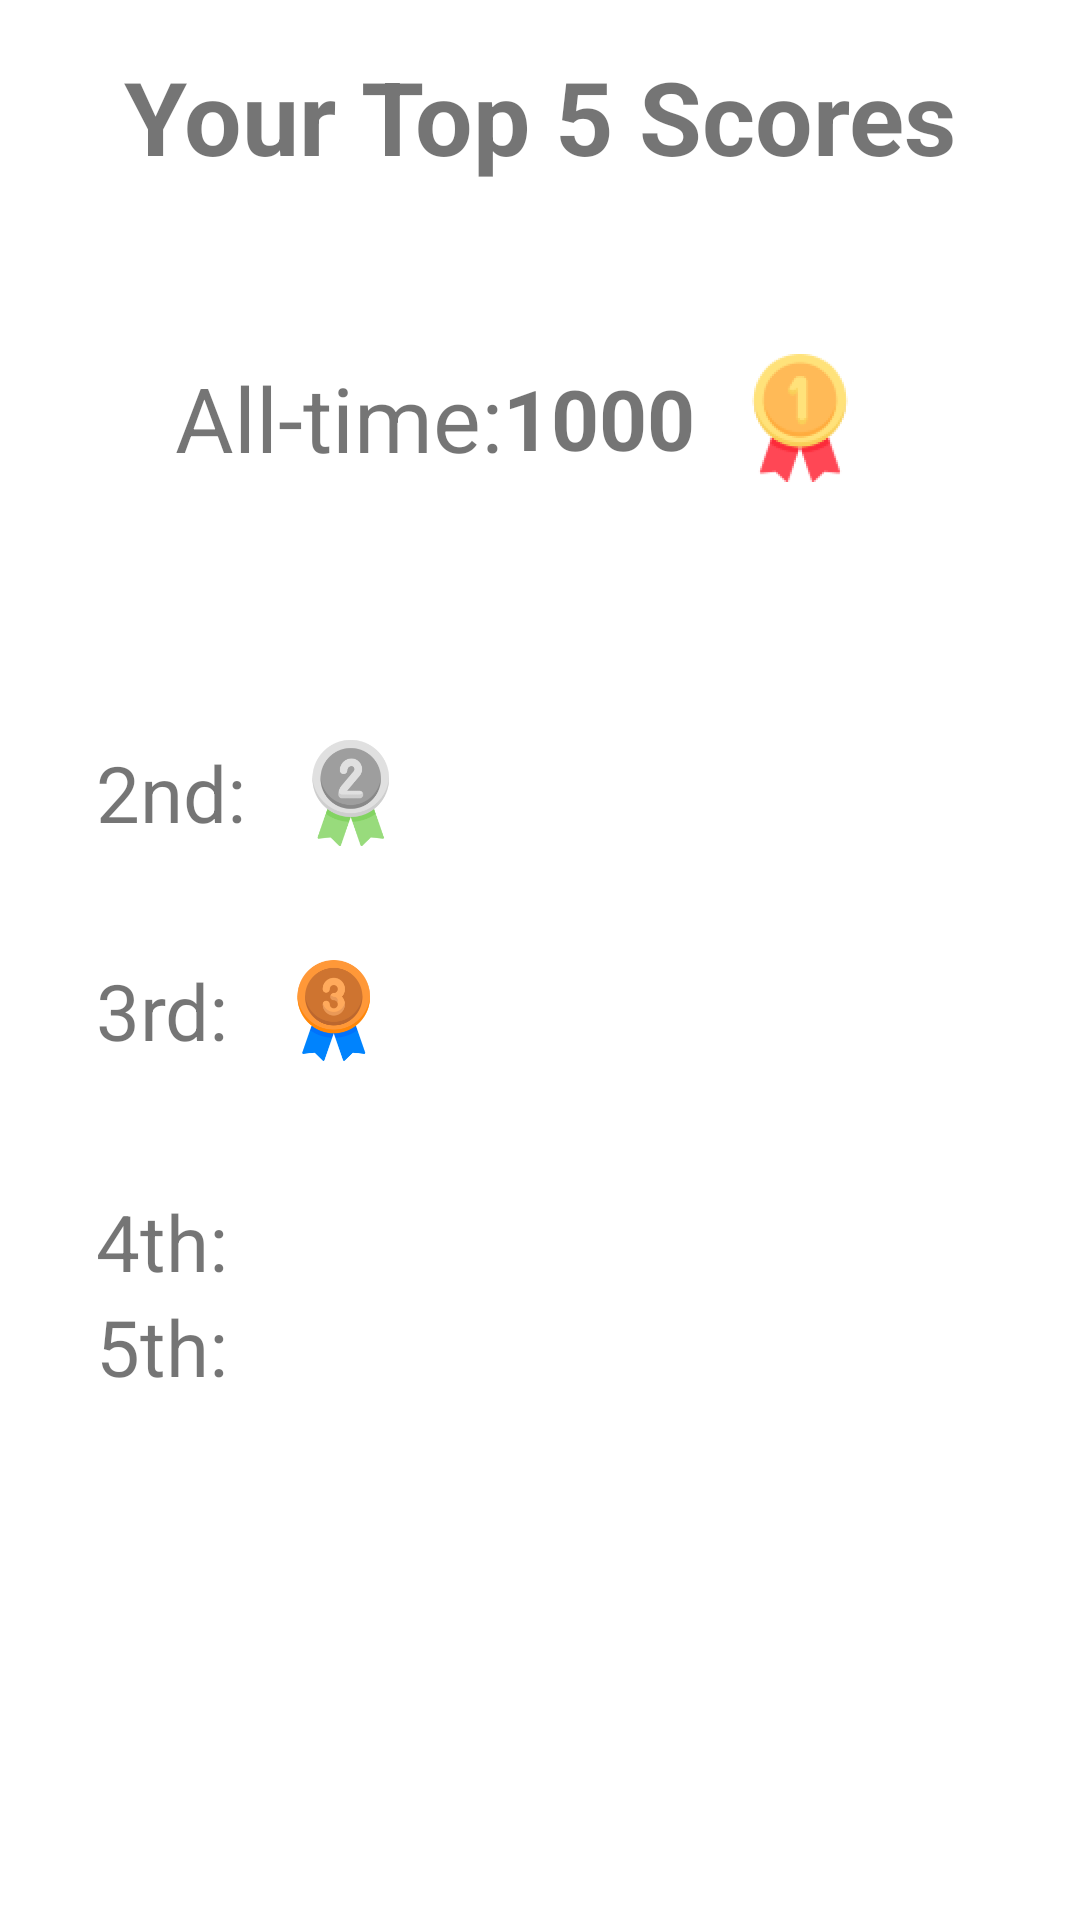

Icons on this 1080px×1920px Android screen, each with the point to tap as (x,y):
medal: (800,418)
medal bronze: (333,1010)
medal silver: (350,793)
